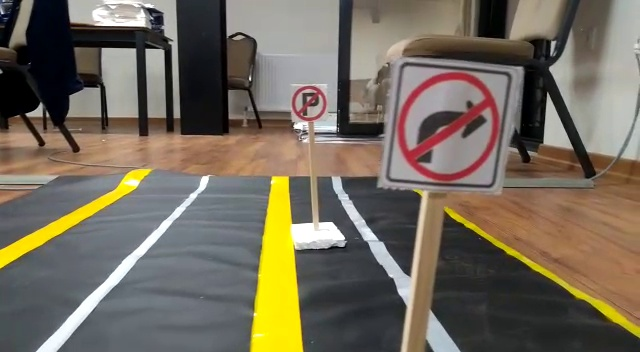park_yapilmaz: (289, 85, 331, 121)
saga_donulmez: (397, 70, 503, 187)
